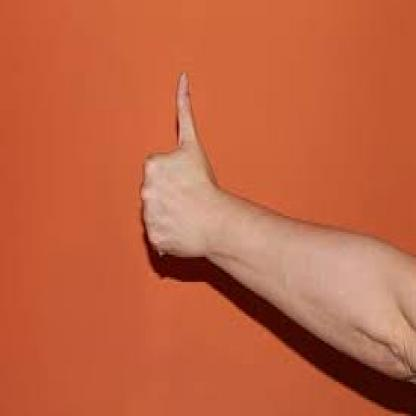thumb_up: (138, 70, 218, 262)
